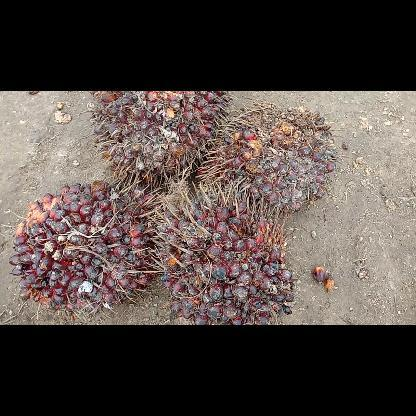TBS masak: (150, 180, 292, 324), (10, 181, 158, 317), (198, 105, 340, 218), (89, 90, 233, 188)
